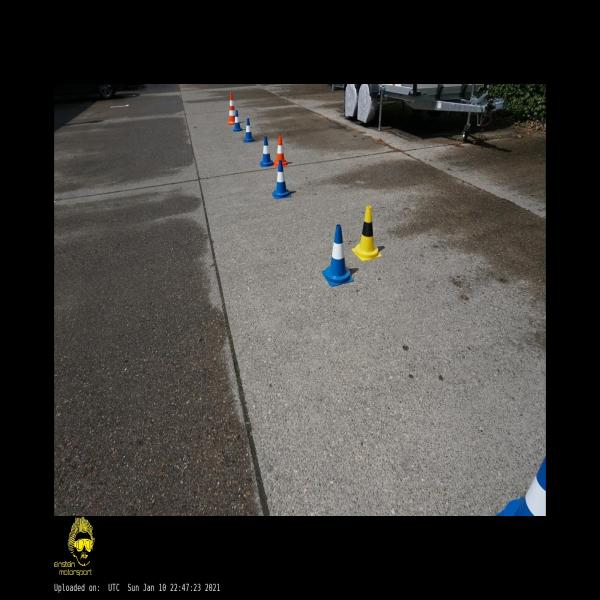blue_cone: (496, 456, 546, 515), (322, 224, 354, 286), (272, 160, 291, 199), (260, 137, 274, 168), (244, 118, 254, 142), (233, 110, 242, 132)
large_orange_cone: (227, 92, 235, 125)
orange_cone: (274, 136, 288, 167)
yellow_cone: (352, 205, 382, 261)
